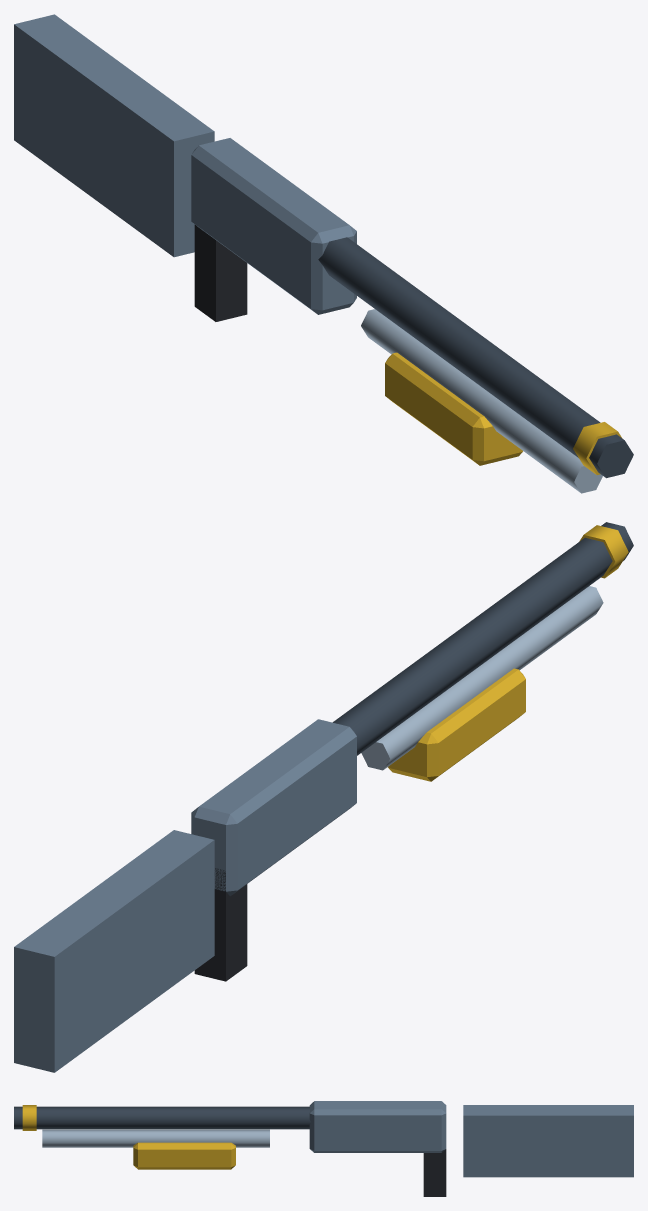
3 renders of one model, top to bottom at view 1: azimuth 30°, elevation 25°; view 2: azimuth 150°, elevation 25°; view 3: azimuth 270°, elevation 25°, orthographic. The views are drawn at different scales.
Parts seen in each view (by area): view 1: dweller_weapon_shotgun; view 2: dweller_weapon_shotgun; view 3: dweller_weapon_shotgun.
Boxes of the visible parts, x1,y1,x2,y2 form: dweller_weapon_shotgun: (14,14,633,493); dweller_weapon_shotgun: (14,522,633,1072); dweller_weapon_shotgun: (14,1101,633,1196).
Size of the model in its own units: 0.058 by 0.17 by 1.09.
